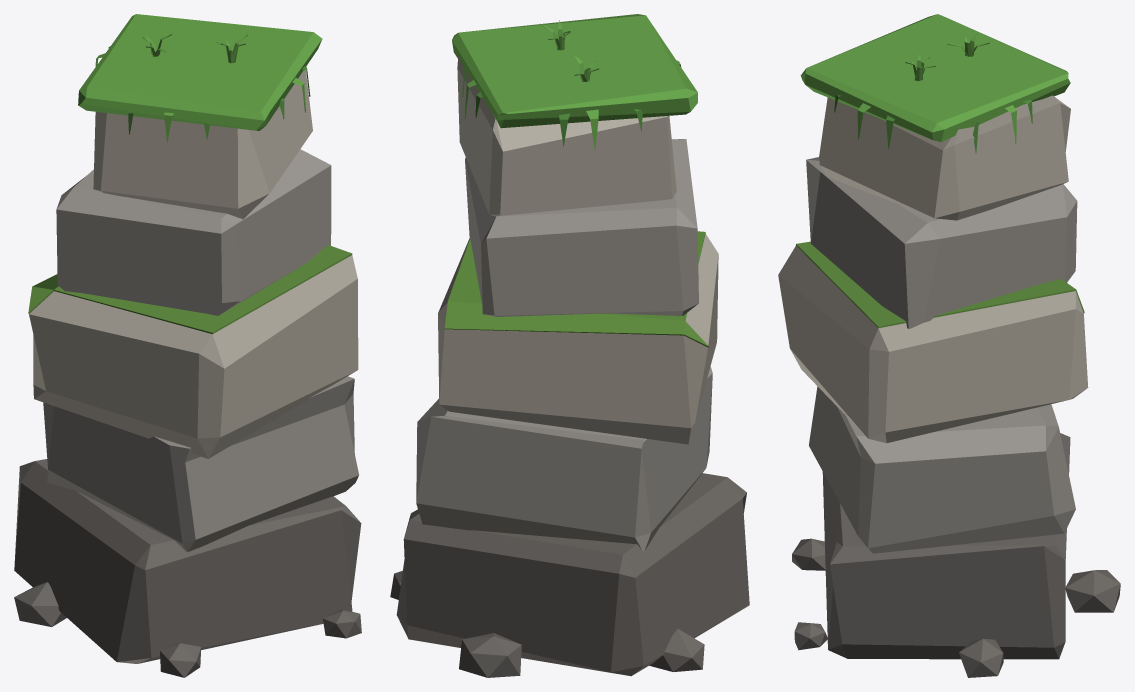
The model's file is cliff-pillar.glb.
3 views of the same model, side by side, from view 1: azimuth 30°, elevation 25°; view 2: azimuth 150°, elevation 25°; view 3: azimuth 270°, elevation 25° (orthographic). The views are drawn at different scales.
Parts seen in each view (by area): view 1: CliffPillar_Stone, CliffPillar_StoneLight, CliffPillar_StoneDark, CliffPillar_Grass, CliffPillar_Moss; view 2: CliffPillar_Stone, CliffPillar_StoneDark, CliffPillar_StoneLight, CliffPillar_Grass, CliffPillar_Moss; view 3: CliffPillar_Stone, CliffPillar_StoneLight, CliffPillar_StoneDark, CliffPillar_Grass, CliffPillar_Moss.
Boxes of the visible parts, <box> form: CliffPillar_Stone: <box>43,149,358,551</box>; CliffPillar_StoneLight: <box>29,70,358,458</box>; CliffPillar_StoneDark: <box>14,459,361,677</box>; CliffPillar_Grass: <box>78,14,322,142</box>; CliffPillar_Moss: <box>28,245,352,334</box>; CliffPillar_Stone: <box>416,139,712,551</box>; CliffPillar_StoneDark: <box>390,473,749,677</box>; CliffPillar_StoneLight: <box>438,56,718,444</box>; CliffPillar_Grass: <box>452,14,697,150</box>; CliffPillar_Moss: <box>444,231,708,347</box>; CliffPillar_Stone: <box>806,157,1077,553</box>; CliffPillar_StoneLight: <box>778,95,1088,443</box>; CliffPillar_StoneDark: <box>792,433,1120,677</box>; CliffPillar_Grass: <box>800,14,1070,143</box>; CliffPillar_Moss: <box>796,241,1084,328</box>.
Size of the model in its own units: 11.05 by 19.57 by 10.77.
